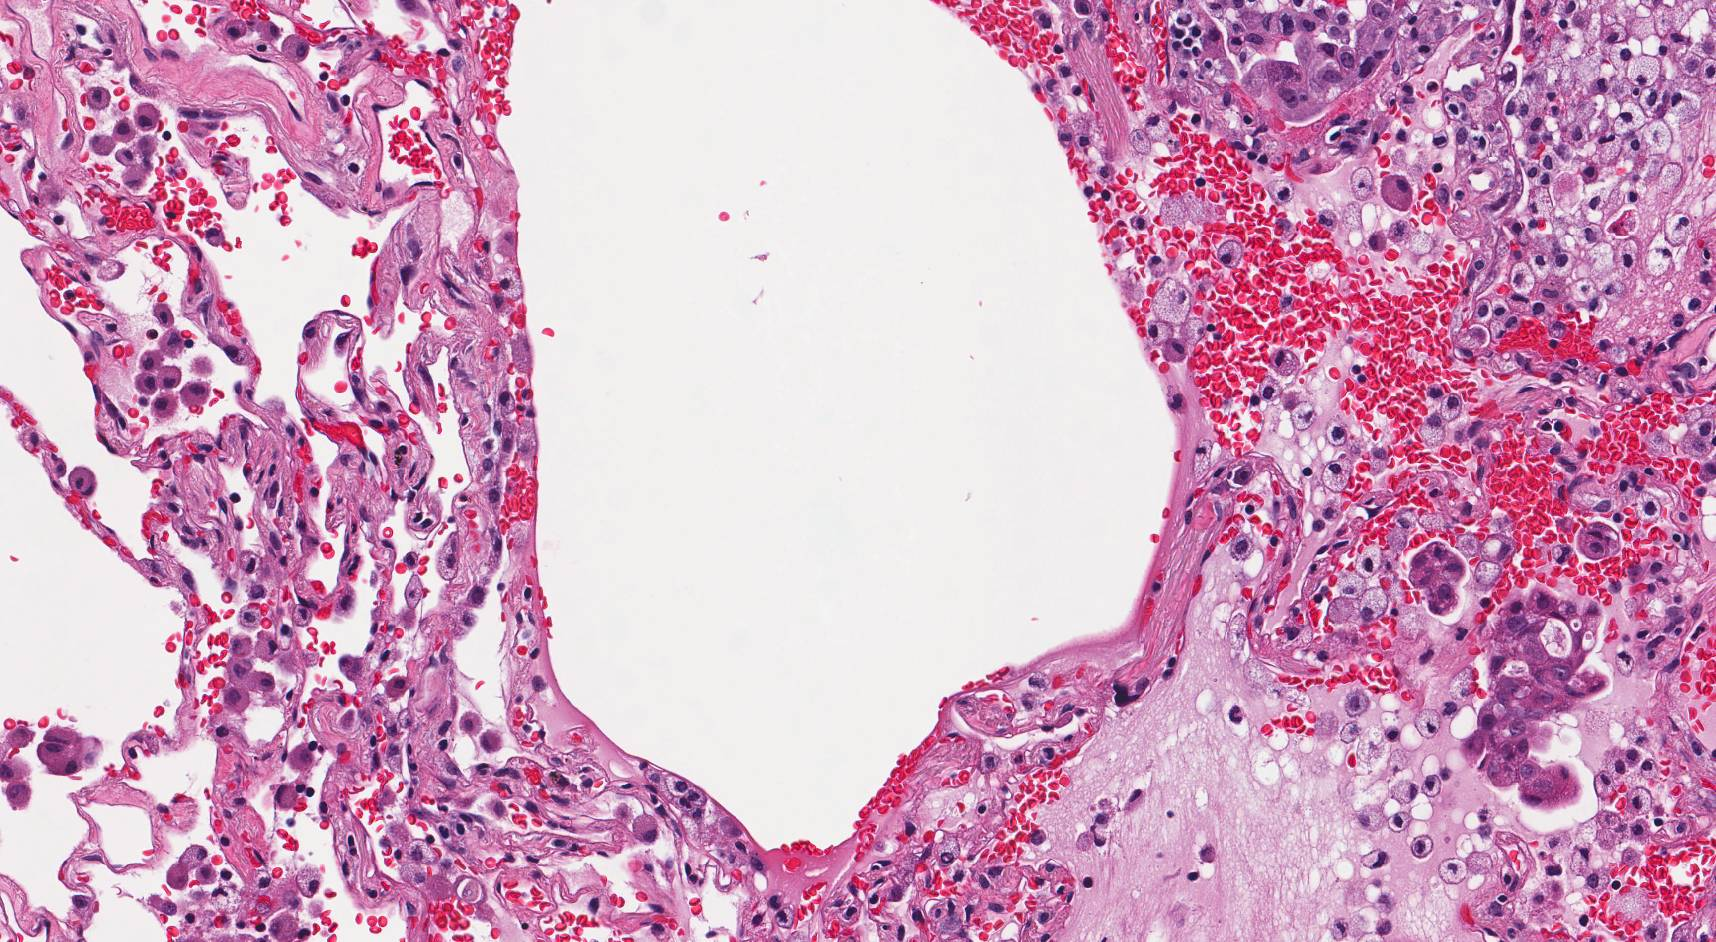stas: (1460, 583, 1611, 811), (1410, 538, 1468, 616)
